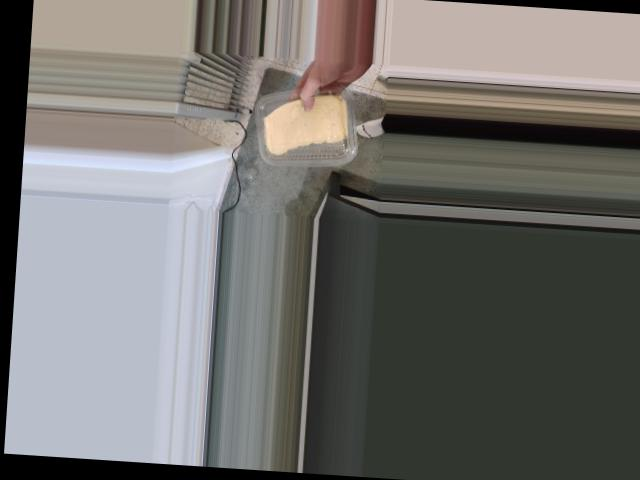cheese: (254, 84, 360, 163)
